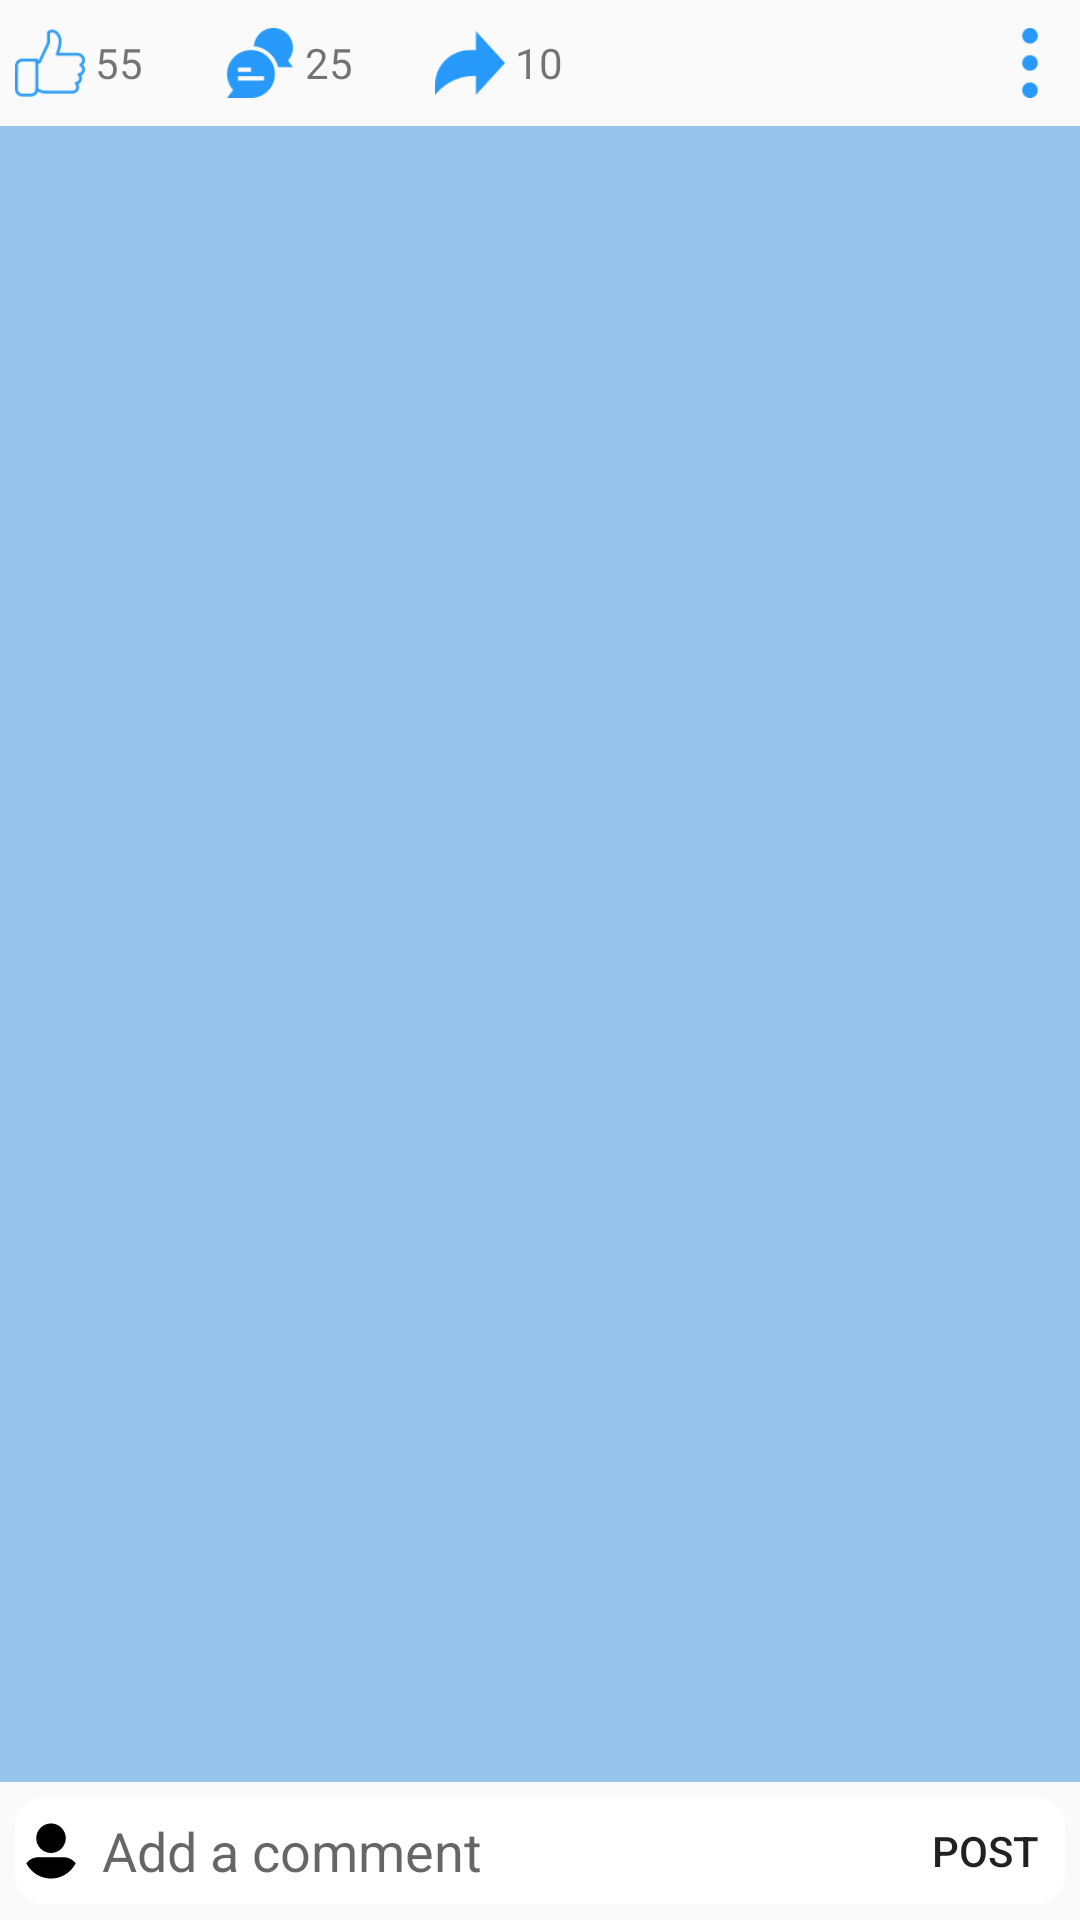

Icons on this 1080px x 1920px Android screen, each with the point to tap as (x=x, y=y):
comments: (x=260, y=63)
like: (x=50, y=63)
more: (x=1030, y=63)
share: (x=470, y=63)
